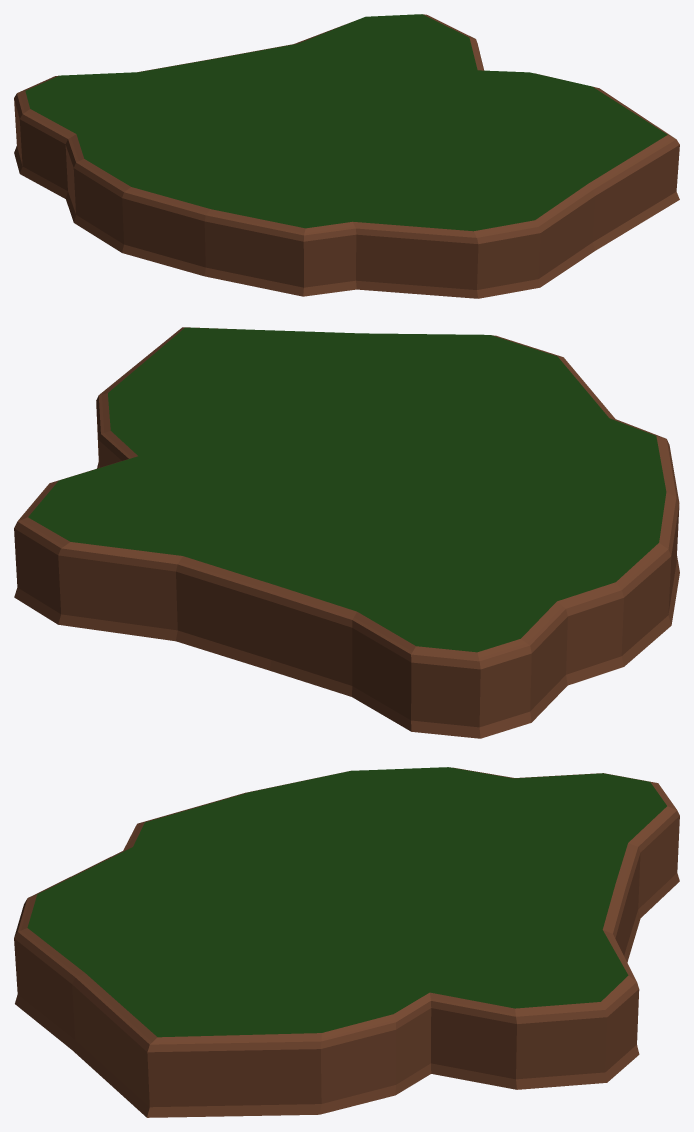
File: SM_platform_grass_01.fbx
3 views of the same model, one above another, from view 1: azimuth 30°, elevation 25°; view 2: azimuth 150°, elevation 25°; view 3: azimuth 270°, elevation 25° (orthographic). The views are drawn at different scales.
Parts seen in each view (by area): view 1: platform_grass_01; view 2: platform_grass_01; view 3: platform_grass_01.
Part boxes in pixels (left/top/right/bottom): platform_grass_01: left=14, top=14, right=679, bottom=298; platform_grass_01: left=14, top=327, right=679, bottom=738; platform_grass_01: left=14, top=767, right=679, bottom=1117.
Size of the model in its own units: 3620 by 459 by 3642.
